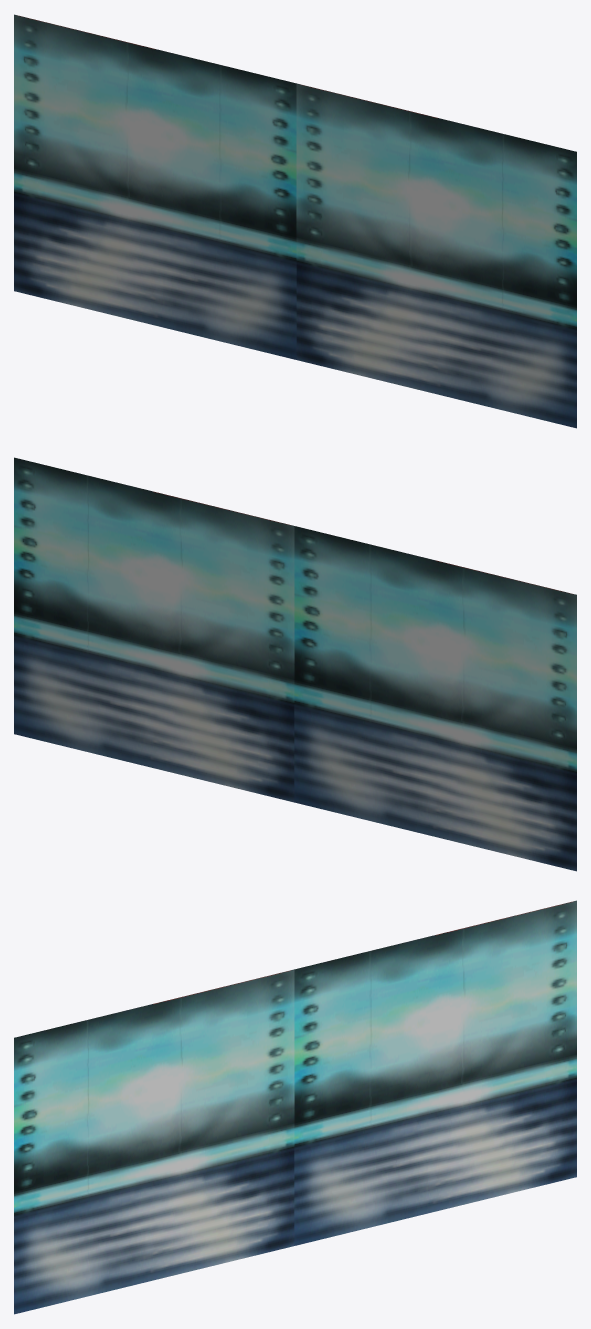
File: Polizei_Wand_K12_2575.glb
The picture shows the model from 3 angles, top to bottom: view 1: azimuth 30°, elevation 25°; view 2: azimuth 210°, elevation 25°; view 3: azimuth 270°, elevation 25°; orthographic projection.
Parts seen in each view (by area): view 1: pPlaneShape359; view 2: pPlaneShape359; view 3: pPlaneShape359.
Part boxes in pixels (x1=…): pPlaneShape359: x1=14, y1=14, x2=576, y2=428; pPlaneShape359: x1=14, y1=457, x2=576, y2=871; pPlaneShape359: x1=14, y1=900, x2=576, y2=1314.
Size of the model in its own units: 0.4144 by 0.3891 by 0.7177.
1 material, 1 textured.
